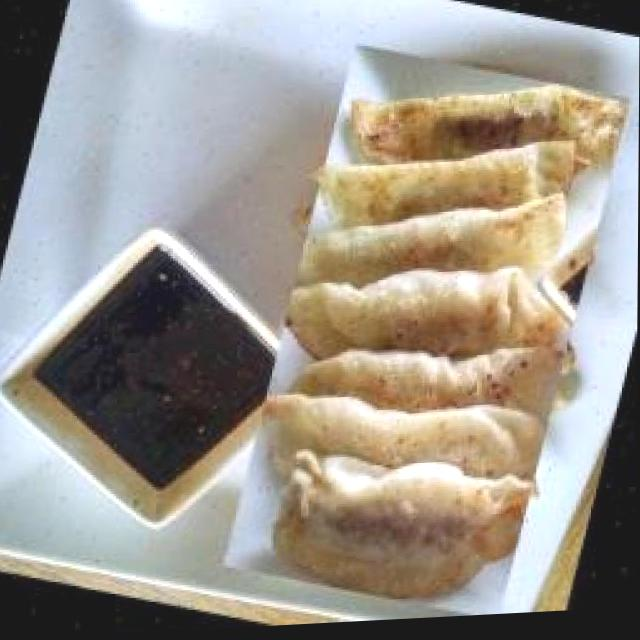fried_dumplings: (224, 36, 633, 631)
